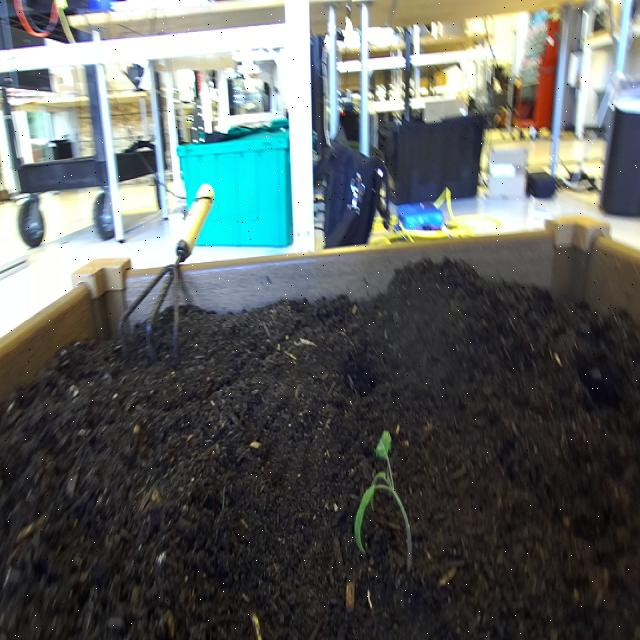Healthy: (351, 423, 419, 577)
